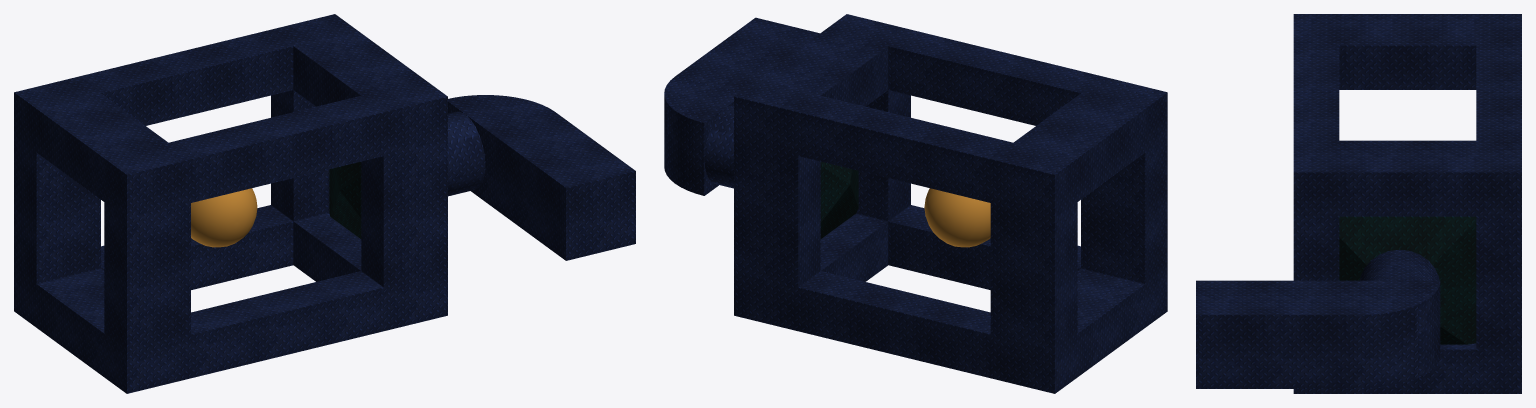
Rendered from lamp.01.glb.
3 renders of one model, left to right at view 1: azimuth 30°, elevation 25°; view 2: azimuth 150°, elevation 25°; view 3: azimuth 270°, elevation 25°, orthographic.
Visible parts, largest first — view 1: mergedBlocks(Clone); view 2: mergedBlocks(Clone); view 3: mergedBlocks(Clone).
Boxes of the visible parts, x1,y1,x2,y2 form: mergedBlocks(Clone): (14, 14, 635, 393); mergedBlocks(Clone): (664, 14, 1167, 393); mergedBlocks(Clone): (1196, 14, 1521, 393).
Size of the model in its own units: 6.6 by 3 by 4.
3 materials, 2 textured.
